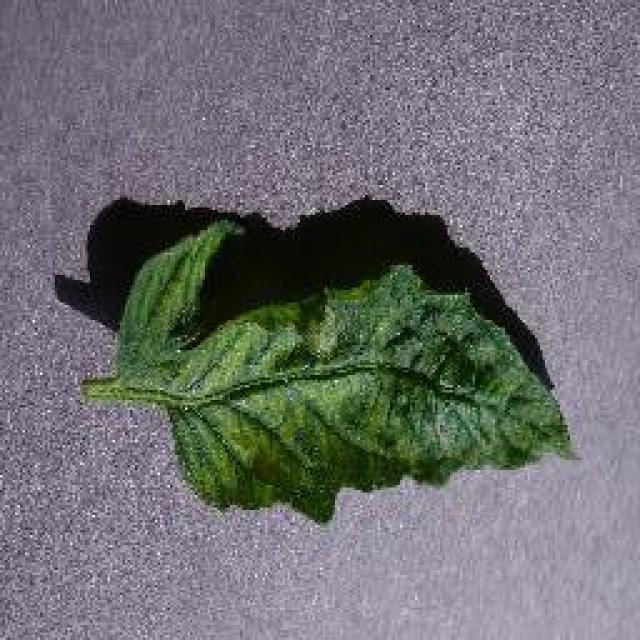Tomato spider mites leaf: (115, 221, 583, 529)
